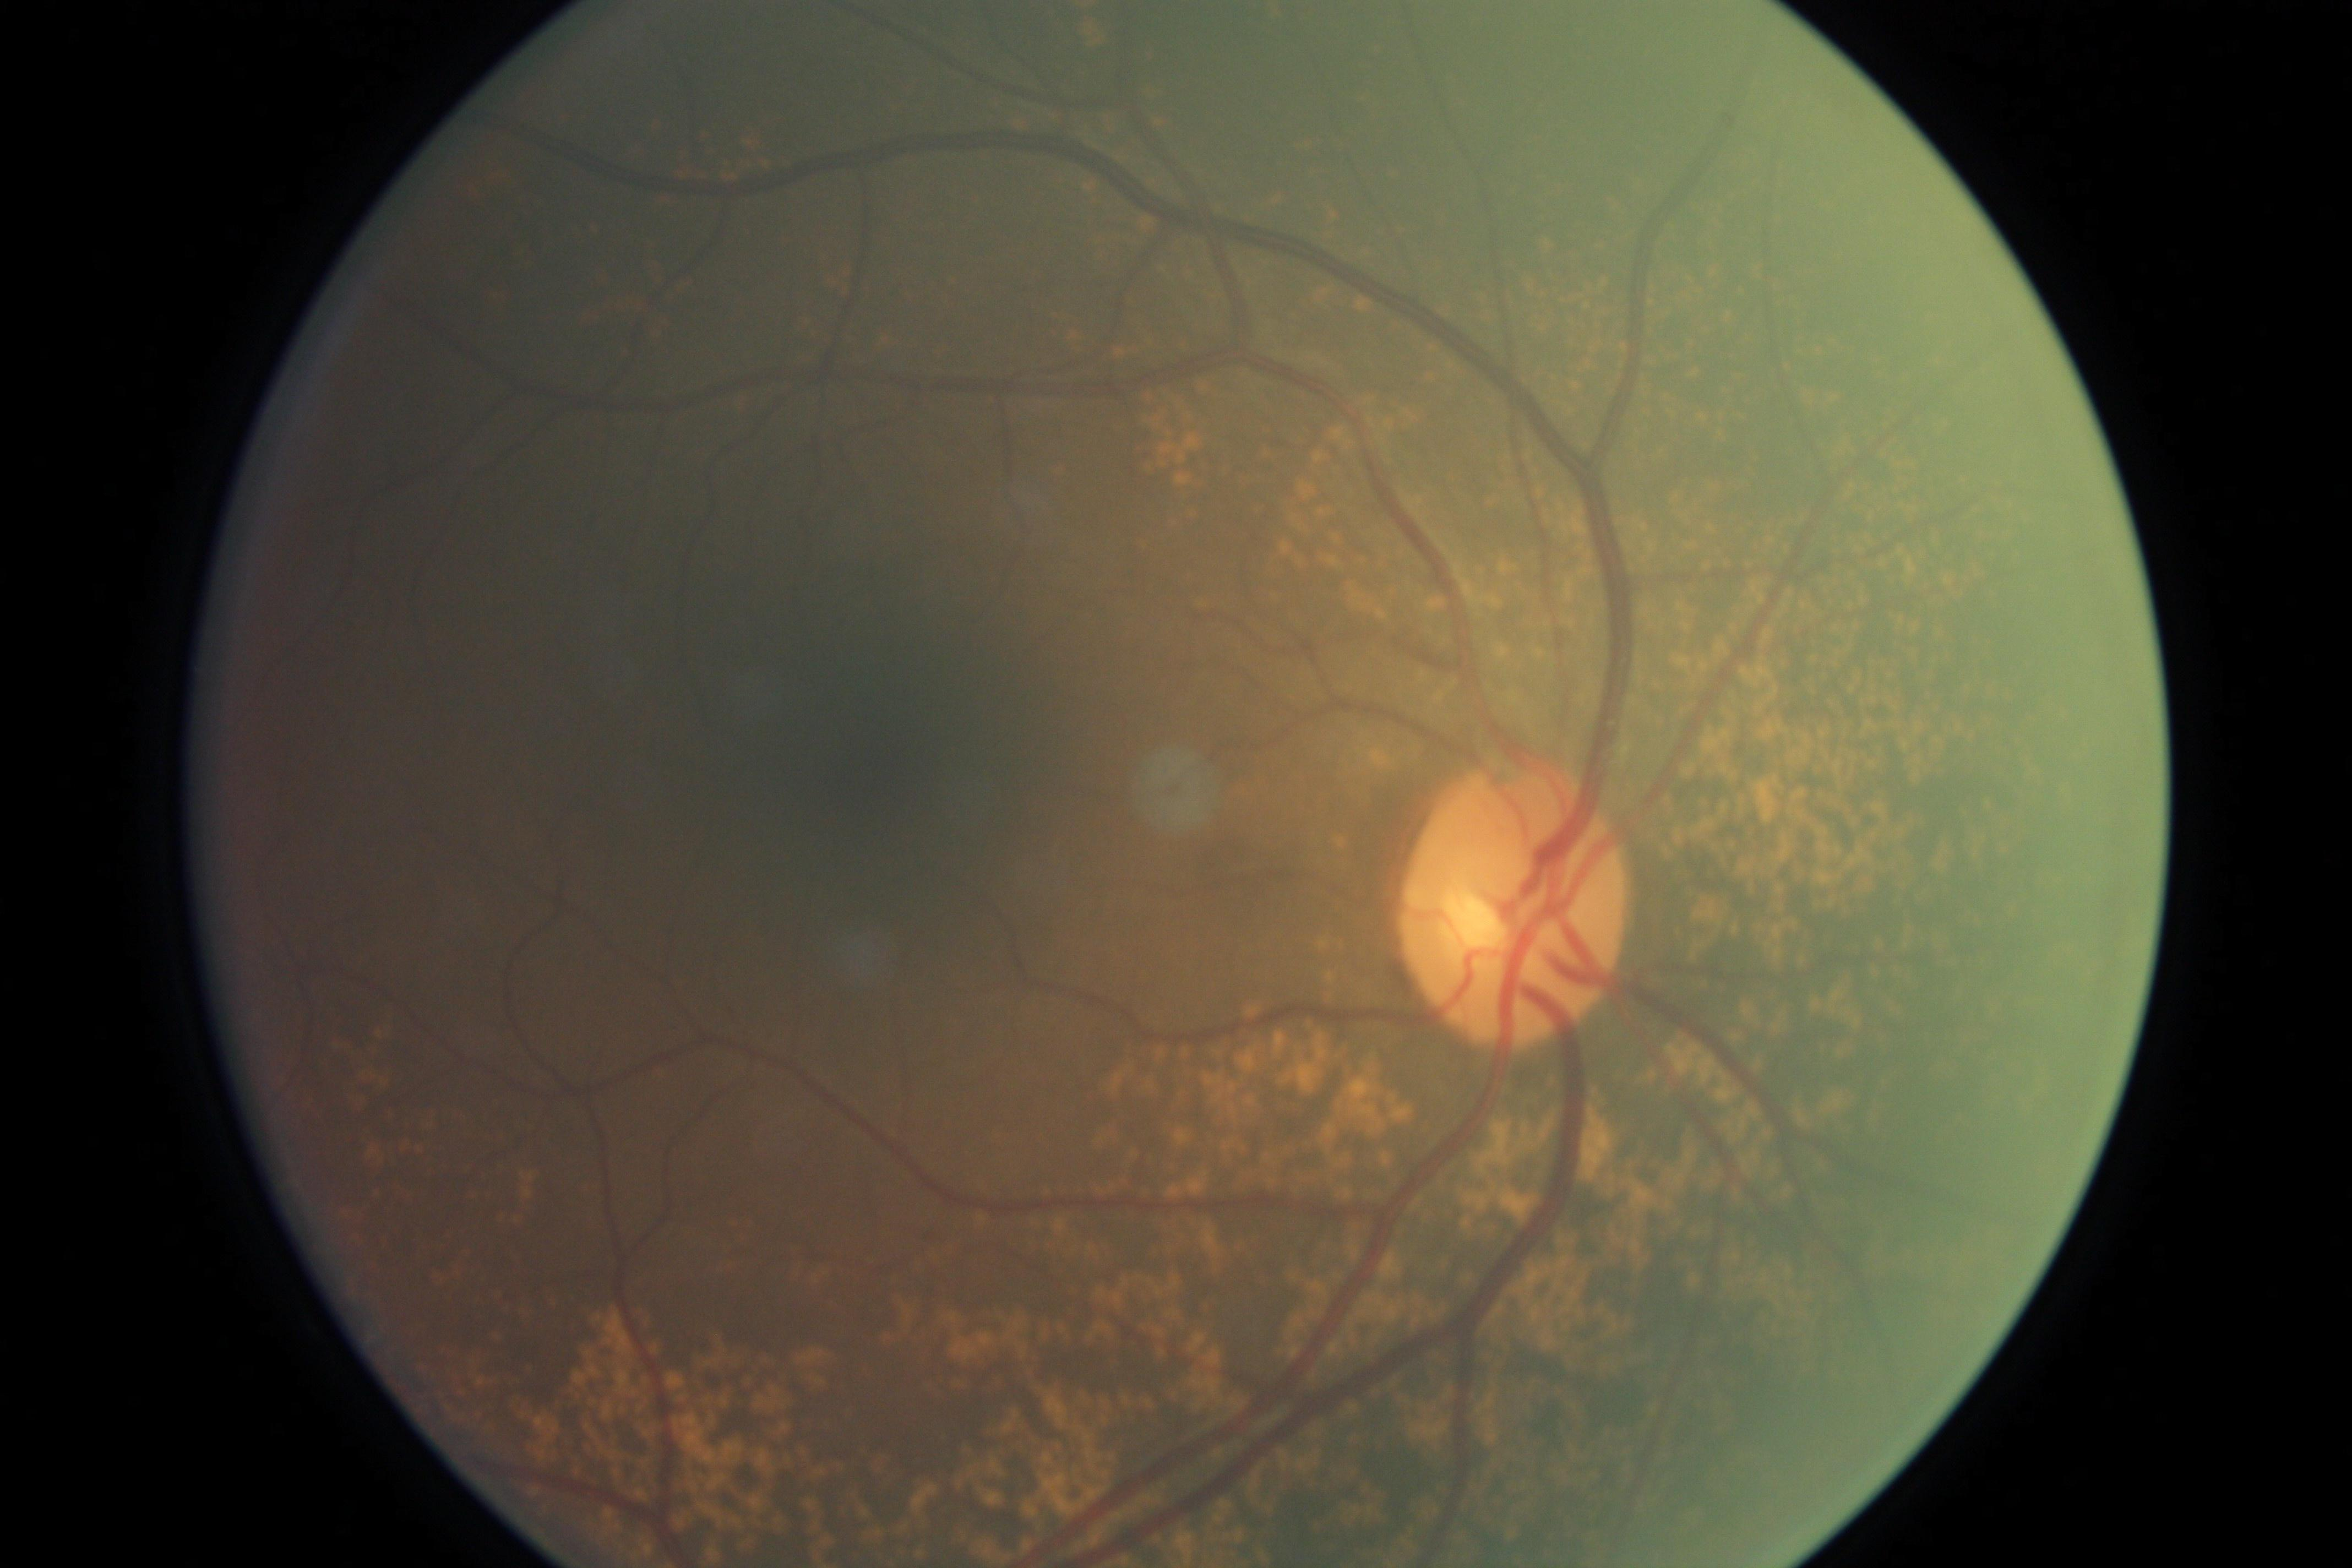Optic-nerve: (1396, 770, 1627, 1053)
macula: (763, 684, 982, 896)
